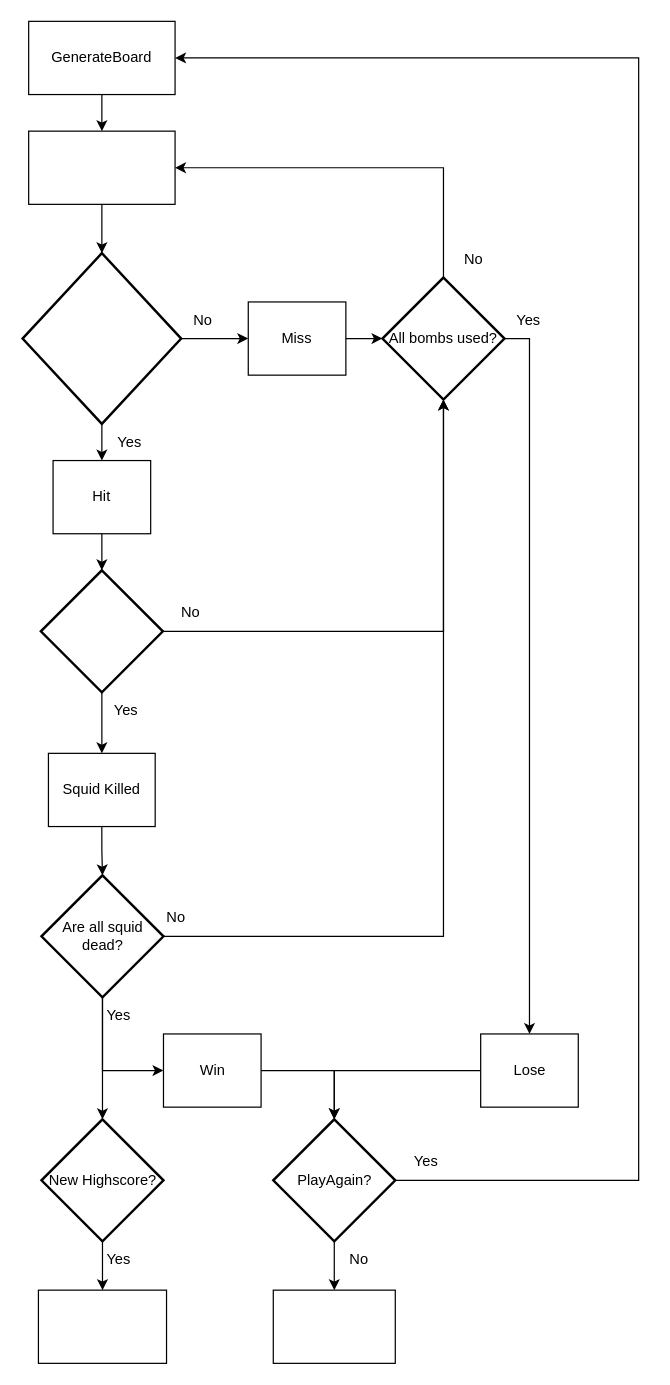
The diagram is 670 pixels wide and 1385 high, and some of its shapes have lost their labels. The shapes that lost their labels are listed below. From the top down, each one's centre as x and y in pixels, then its label:
At (101,167): "Make Selection".
At (101,338): "Is Squid Present at selection?".
At (101,631): "Squid Killed?".
At (102,1326): "UpdateHighscore".
At (333,1326): "QuitApplication".
